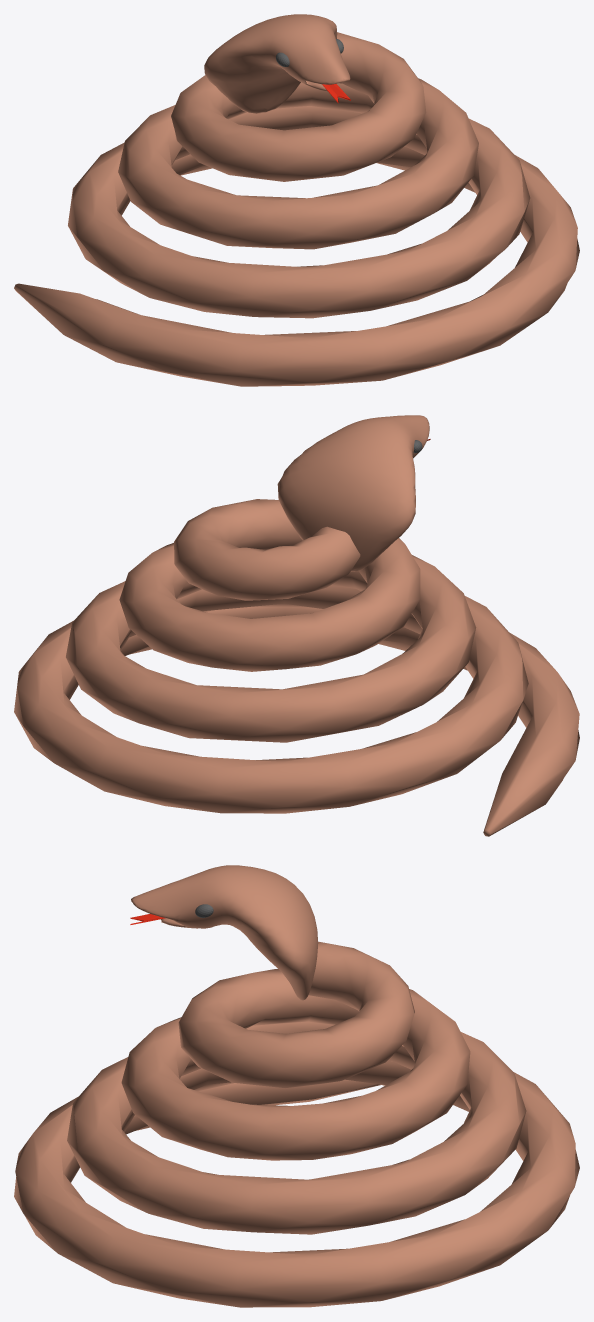
The model's file is Snake.fbx.
The picture shows the model from 3 angles, top to bottom: view 1: azimuth 30°, elevation 25°; view 2: azimuth 150°, elevation 25°; view 3: azimuth 270°, elevation 25°; orthographic projection. The views are drawn at different scales.
Visible parts, largest first — view 1: Snake.001; view 2: Snake.001; view 3: Snake.001.
Part boxes in pixels (x1,y1,x2,y2): Snake.001: (14,14,579,386); Snake.001: (14,415,579,836); Snake.001: (14,865,579,1307).
Size of the model in its own units: 0.3868 by 0.3697 by 0.2336.
